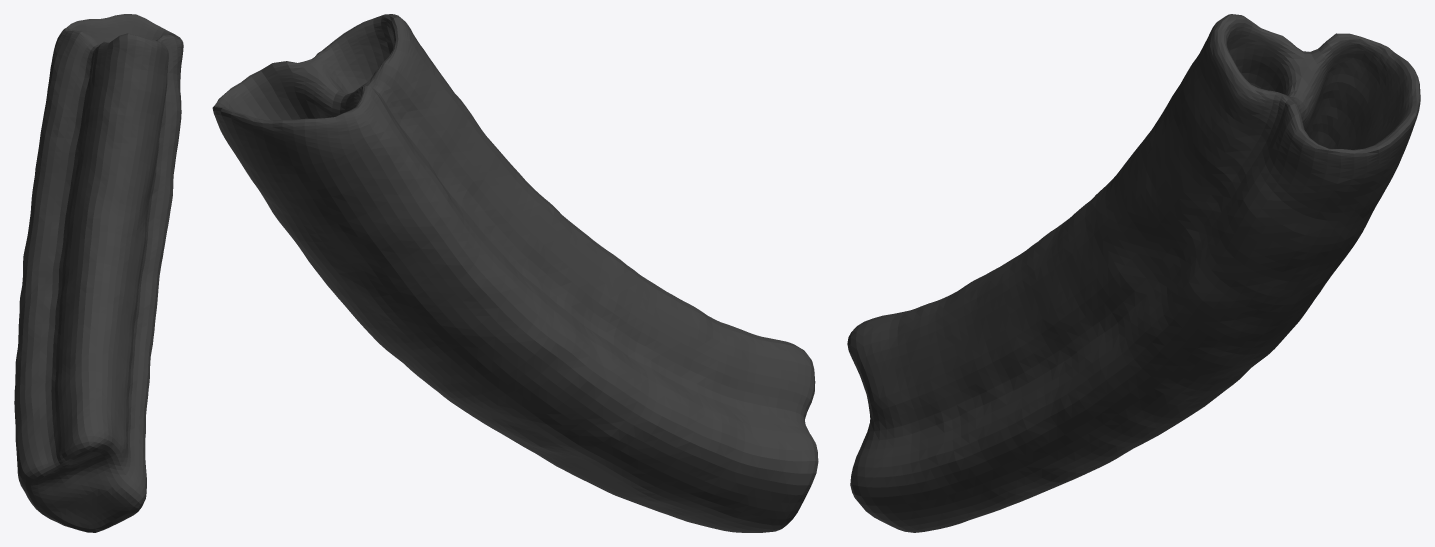
Rendered from tooth_rabbit_311_low.glb.
3 renders of one model, left to right at view 1: azimuth 30°, elevation 25°; view 2: azimuth 150°, elevation 25°; view 3: azimuth 270°, elevation 25°, orthographic. The views are drawn at different scales.
Parts seen in each view (by area): view 1: tooth_rabbit_311_low; view 2: tooth_rabbit_311_low; view 3: tooth_rabbit_311_low.
Part boxes in pixels (bbox=[...]): tooth_rabbit_311_low: bbox=[14, 14, 183, 532]; tooth_rabbit_311_low: bbox=[212, 14, 818, 532]; tooth_rabbit_311_low: bbox=[847, 14, 1420, 532].
Bounding box in the file's own units: 0.4272 × 0.5697 × 0.48.
1 material, 1 textured.
